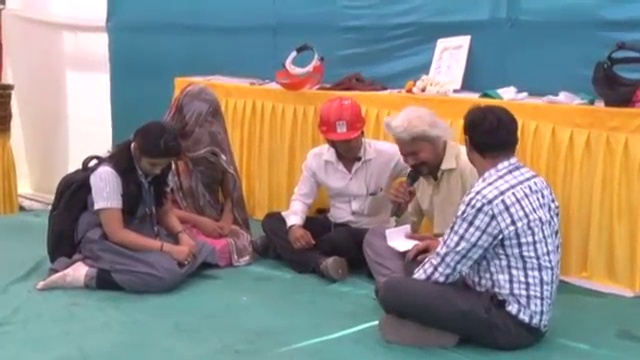helmet: (315, 102, 367, 140)
helmet_off: (459, 104, 529, 182), (386, 108, 455, 178), (117, 122, 179, 189), (169, 86, 226, 152)
helmet_on: (313, 104, 367, 164)
person: (375, 102, 562, 348), (31, 123, 202, 290), (256, 104, 407, 278), (363, 105, 477, 283), (154, 81, 257, 267)
